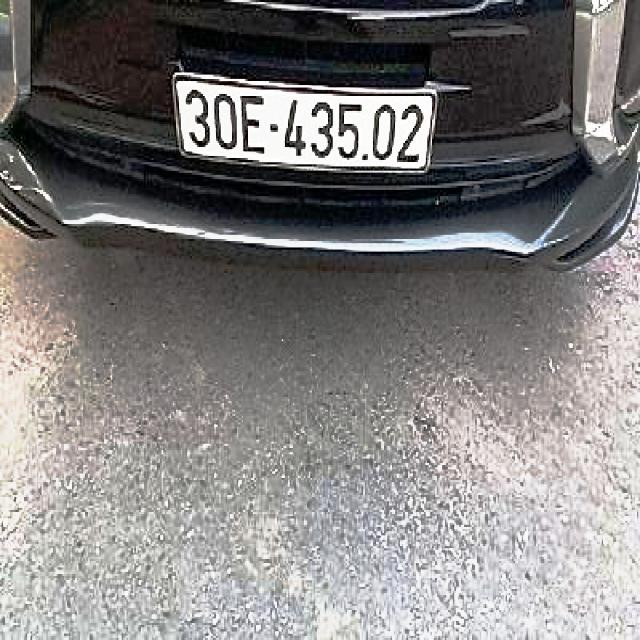license_plate: (174, 72, 433, 167)
